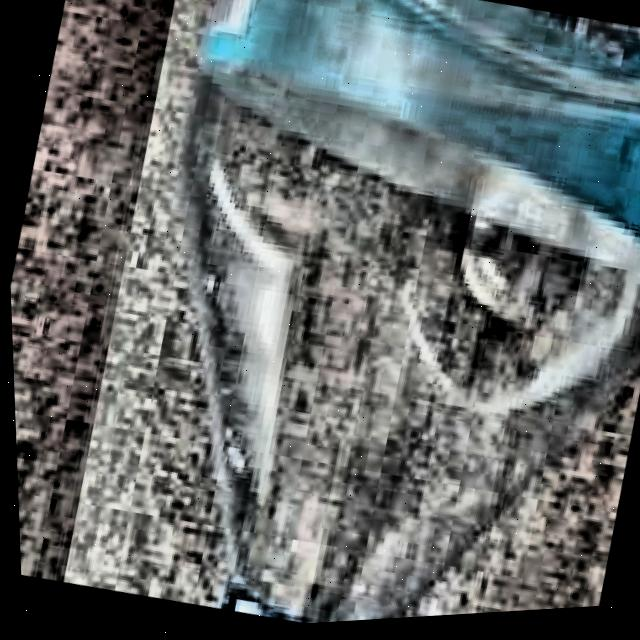plastic: (41, 0, 640, 638)
